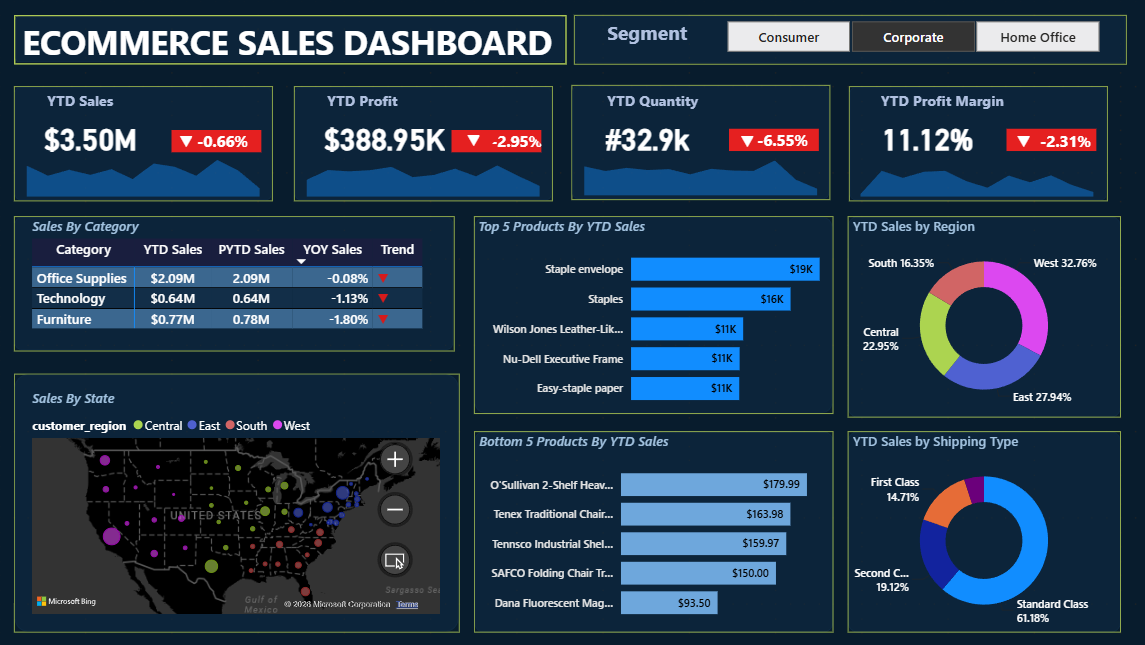

The page's visual inventory and layout, read from the dashboard file:
{"tool":"powerbi","page":{"name":"Page 1","canvas":[1280,720],"ordinal":0},"visuals":[{"type":"shape","box":[16,16,615,55],"z":0},{"type":"textbox","box":[16,16,608,64],"z":1000},{"type":"shape","box":[16,96,288,128],"z":2000},{"type":"shape","box":[192,144,100,25],"z":3000},{"type":"cardVisual","fields":{"Data":["ecommerce_data.YTD"]},"box":[0,112,240,80],"z":4000},{"type":"areaChart","fields":{"Category":["CALENDAR.Month"],"Y":["Sum(ecommerce_data.sales_per_order)"]},"box":[16,160,288,64],"z":5000},{"type":"cardVisual","fields":{"Data":["ecommerce_data.YOY Sales"]},"box":[176,128,144,56],"z":6000},{"type":"cardVisual","fields":{"Data":["ecommerce_data.Sales Icon"]},"box":[160,128,96,56],"z":7000},{"type":"textbox","box":[48,96,96,32],"z":8000},{"type":"shape","box":[327.8,96.7,288,128],"z":9000},{"type":"shape","box":[503.8,144.7,100,25],"z":10000},{"type":"cardVisual","fields":{"Data":["ecommerce_data.YTD Profit"]},"box":[311.8,112.7,240,80],"z":11000},{"type":"areaChart","fields":{"Category":["CALENDAR.Month"],"Y":["Sum(ecommerce_data.profit_per_order)"]},"box":[327.8,160.7,288,64],"z":12000},{"type":"cardVisual","fields":{"Data":["ecommerce_data.YOY Profit"]},"box":[512,128,128,55],"z":13000},{"type":"cardVisual","fields":{"Data":["ecommerce_data.Profit Icon"]},"box":[480,128,96,52],"z":14000},{"type":"textbox","box":[359.8,96.7,96,32],"z":15000},{"type":"shape","box":[637,95.1,288,128],"z":16000},{"type":"shape","box":[813,143.1,100,25],"z":17000},{"type":"cardVisual","fields":{"Data":["ecommerce_data.YTD Concatenated Qty"]},"box":[624,112,240,80],"z":18000},{"type":"areaChart","fields":{"Category":["CALENDAR.Month"],"Y":["Sum(ecommerce_data.order_quantity)"]},"box":[637,159.1,288,64],"z":19000},{"type":"cardVisual","fields":{"Data":["ecommerce_data.YOY Quantity"]},"box":[800,128,144,53],"z":20000},{"type":"cardVisual","fields":{"Data":["ecommerce_data.Quantity Icon"]},"box":[784,128,96,55],"z":21000},{"type":"textbox","box":[672,96,128,32],"z":22000},{"type":"shape","box":[945.6,95.5,288,128],"z":23000},{"type":"shape","box":[1121.6,143.5,100,25],"z":24000},{"type":"cardVisual","fields":{"Data":["ecommerce_data.YTD Profit Margin"]},"box":[932.6,112.4,240,80],"z":25000},{"type":"areaChart","fields":{"Category":["CALENDAR.Month"],"Y":["ecommerce_data.Profit Margin"]},"box":[944,160,288,64],"z":26000},{"type":"cardVisual","fields":{"Data":["ecommerce_data.YOY Profit Margin"]},"box":[1120,128,134,55],"z":27000},{"type":"cardVisual","fields":{"Data":["ecommerce_data.Profit Margin Icon"]},"box":[1092.6,128.4,96,55],"z":28000},{"type":"textbox","box":[976,96,160,32],"z":29000},{"type":"shape","box":[16,240,490,150],"z":30000},{"type":"pivotTable","title":"Sales By Category","fields":{"Rows":["ecommerce_data.category_name"],"Values":["ecommerce_data.YTD Sales","ecommerce_data.PYTD Sales","ecommerce_data.YOY Sales","ecommerce_data.Sales Icon"]},"box":[32,240,480,144],"z":31000},{"type":"shape","box":[16,416,496,288],"z":32000},{"type":"map","title":"Sales By State","fields":{"Size":["ecommerce_data.YTD Sales"],"X":["us_state_long_lat_codes.longitude"],"Y":["us_state_long_lat_codes.latitude"],"Series":["ecommerce_data.customer_region"]},"box":[32,432,464,256],"z":33000},{"type":"shape","box":[528,240,400,220],"z":34000},{"type":"shape","box":[528,480,400,224],"z":35000},{"type":"barChart","title":"Top 5 Products By YTD Sales","fields":{"Category":["ecommerce_data.product_name"],"Y":["ecommerce_data.YTD Sales"]},"box":[528,240,400,224],"z":36000},{"type":"barChart","title":"Bottom 5 Products By YTD Sales","fields":{"Category":["ecommerce_data.product_name"],"Y":["ecommerce_data.YTD Sales"]},"box":[528,480,400,224],"z":37000},{"type":"shape","box":[944,240,304,224],"z":38000},{"type":"shape","box":[944,480,304,224],"z":39000},{"type":"donutChart","title":"YTD Sales by Region","fields":{"Category":["ecommerce_data.customer_region"],"Y":["ecommerce_data.YTD Sales"]},"box":[944,240,304,224],"z":40000},{"type":"donutChart","title":"YTD Sales by Shipping Type","fields":{"Y":["ecommerce_data.YTD Sales"],"Category":["ecommerce_data.shipping_type"]},"box":[944,480,304,224],"z":41000},{"type":"shape","box":[640,16,615,55],"z":42000},{"type":"slicer","fields":{"Values":["ecommerce_data.customer_segment"]},"box":[784,16,464,48],"z":43000},{"type":"textbox","box":[672,16,112,48],"z":44000}]}

Visuals, with their boxes in screenshot pixels (x1, y1, x2, y2), scaled from the page's 1280x720 canvas onto the 1145x645 screenshot:
shape: 14/14/564/64
textbox: 14/14/558/72
shape: 14/86/272/201
shape: 172/129/261/151
cardVisual - ecommerce_data.YTD: 0/100/215/172
areaChart - CALENDAR.Month x Sum(ecommerce_data.sales_per_order): 14/143/272/201
cardVisual - ecommerce_data.YOY Sales: 157/115/286/165
cardVisual - ecommerce_data.Sales Icon: 143/115/229/165
textbox: 43/86/129/115
shape: 293/87/551/201
shape: 451/130/540/152
cardVisual - ecommerce_data.YTD Profit: 279/101/494/173
areaChart - CALENDAR.Month x Sum(ecommerce_data.profit_per_order): 293/144/551/201
cardVisual - ecommerce_data.YOY Profit: 458/115/572/164
cardVisual - ecommerce_data.Profit Icon: 429/115/515/161
textbox: 322/87/408/115
shape: 570/85/827/200
shape: 727/128/817/151
cardVisual - ecommerce_data.YTD Concatenated Qty: 558/100/773/172
areaChart - CALENDAR.Month x Sum(ecommerce_data.order_quantity): 570/143/827/200
cardVisual - ecommerce_data.YOY Quantity: 716/115/844/162
cardVisual - ecommerce_data.Quantity Icon: 701/115/787/164
textbox: 601/86/716/115
shape: 846/86/1103/200
shape: 1003/129/1093/151
cardVisual - ecommerce_data.YTD Profit Margin: 834/101/1049/172
areaChart - CALENDAR.Month x ecommerce_data.Profit Margin: 844/143/1102/201
cardVisual - ecommerce_data.YOY Profit Margin: 1002/115/1122/164
cardVisual - ecommerce_data.Profit Margin Icon: 977/115/1063/164
textbox: 873/86/1016/115
shape: 14/215/453/349
"Sales By Category" pivotTable: 29/215/458/344
shape: 14/373/458/631
"Sales By State" map: 29/387/444/616
shape: 472/215/830/412
shape: 472/430/830/631
"Top 5 Products By YTD Sales" barChart: 472/215/830/416
"Bottom 5 Products By YTD Sales" barChart: 472/430/830/631
shape: 844/215/1116/416
shape: 844/430/1116/631
"YTD Sales by Region" donutChart: 844/215/1116/416
"YTD Sales by Shipping Type" donutChart: 844/430/1116/631
shape: 572/14/1123/64
slicer - ecommerce_data.customer_segment: 701/14/1116/57
textbox: 601/14/701/57
